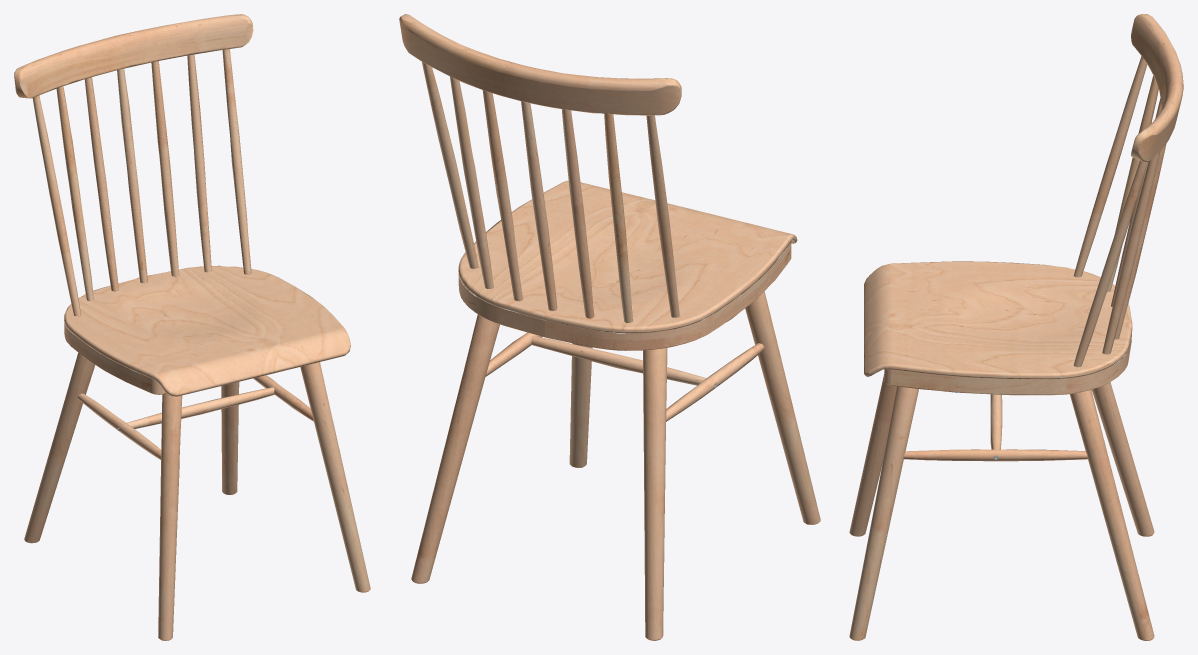
Rendered from hoegved_chair_birch_veneer.glb.
The picture shows the model from 3 angles, left to right: view 1: azimuth 30°, elevation 25°; view 2: azimuth 150°, elevation 25°; view 3: azimuth 270°, elevation 25°; orthographic projection. The views are drawn at different scales.
Parts seen in each view (by area): view 1: ASY_ART_90606820_S01_NV01; view 2: ASY_ART_90606820_S01_NV01; view 3: ASY_ART_90606820_S01_NV01.
Boxes of the visible parts, left/top/right/bottom form: ASY_ART_90606820_S01_NV01: left=14, top=14, right=370, bottom=640; ASY_ART_90606820_S01_NV01: left=399, top=14, right=820, bottom=640; ASY_ART_90606820_S01_NV01: left=849, top=14, right=1183, bottom=640.
Size of the model in its own units: 0.4508 by 0.8633 by 0.5095.
1 material, 1 textured.
